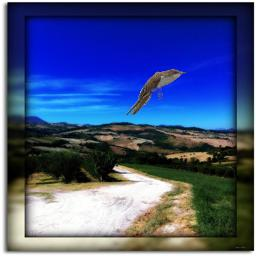Cuckoo: (126, 69, 187, 115)
